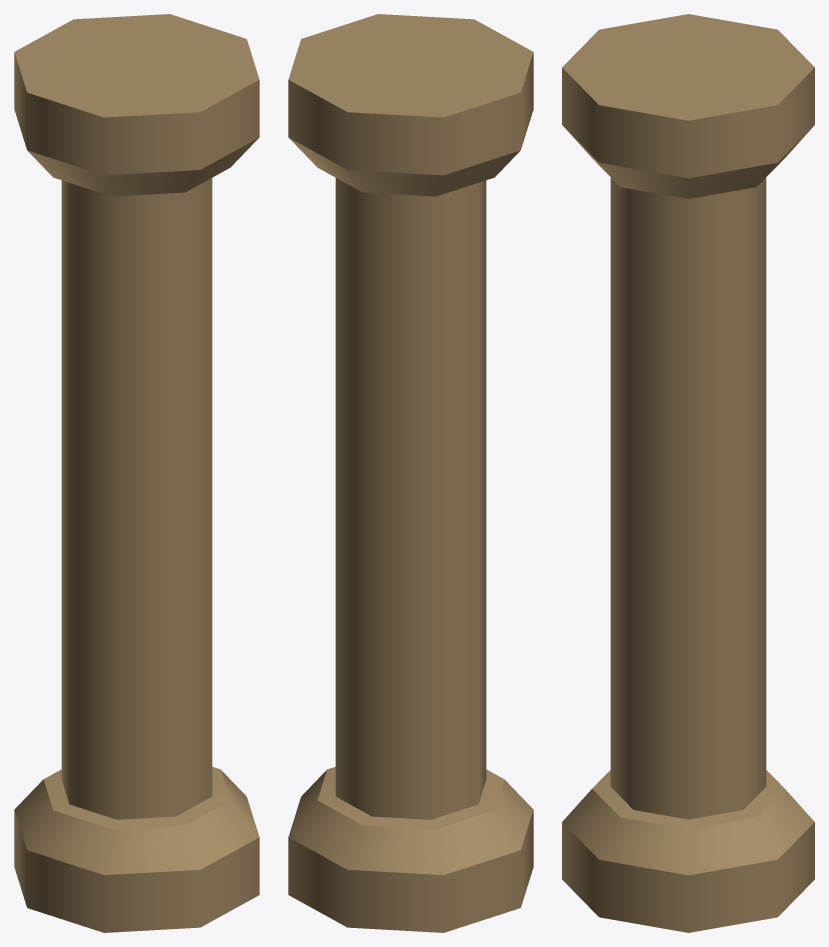
File: Column.fbx
3 renders of one model, left to right at view 1: azimuth 30°, elevation 25°; view 2: azimuth 150°, elevation 25°; view 3: azimuth 270°, elevation 25°, orthographic.
Visible parts, largest first — view 1: Column; view 2: Column; view 3: Column.
Boxes of the visible parts, box(x1,y1,x2,y2) form: Column: box(14, 14, 259, 932); Column: box(288, 14, 533, 932); Column: box(562, 14, 814, 932).
Size of the model in its own units: 1.54 by 5.45 by 1.54.
